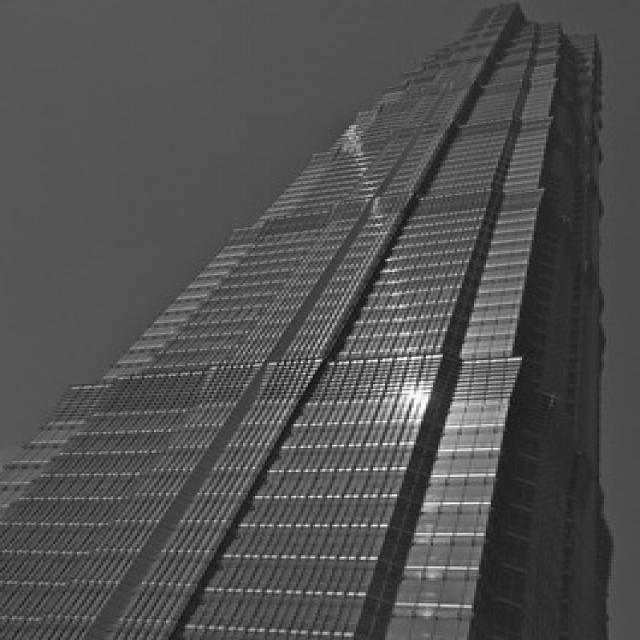Normal_building: (8, 8, 630, 640)
